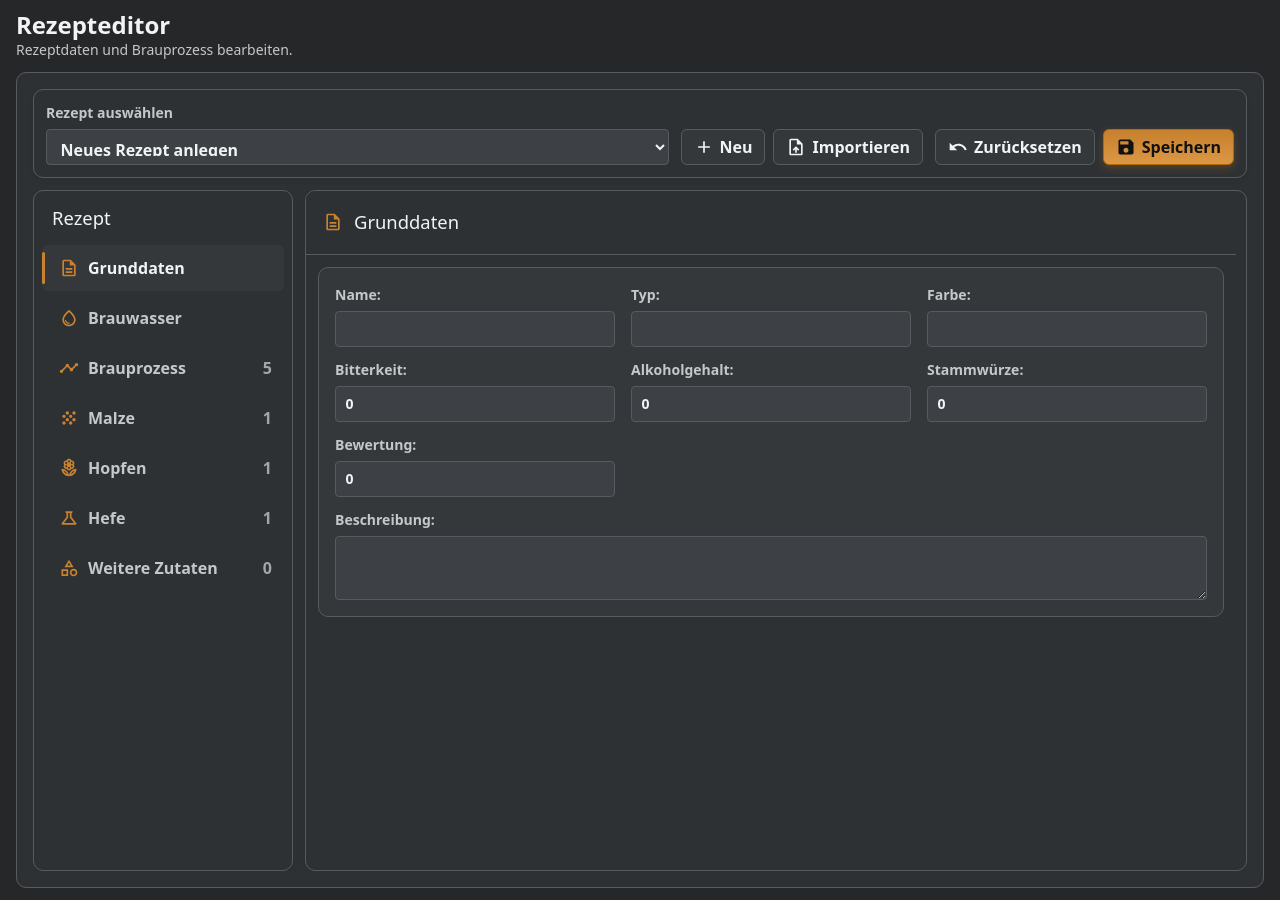
Test: BeerForm section navigation › shows and clears the decoction assignment error immediately after procedure type changes
The image size is (1280, 900).
Click the button "Brauprozess 5".
click(163, 368)  # box [42, 345, 284, 391]
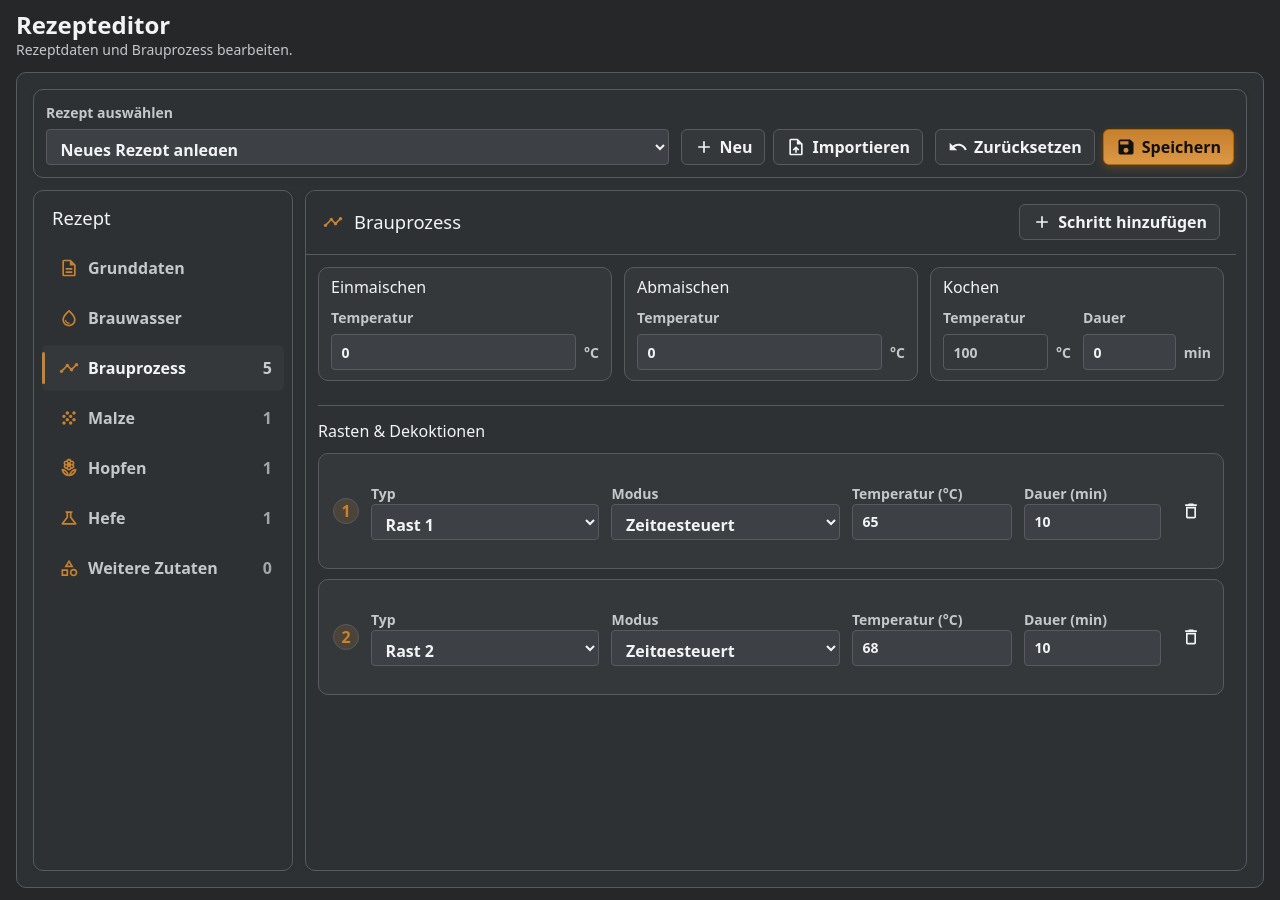
Select "Dekoktion" in the dropdown named "Typ 2" at (485, 522), box [371, 504, 600, 540]
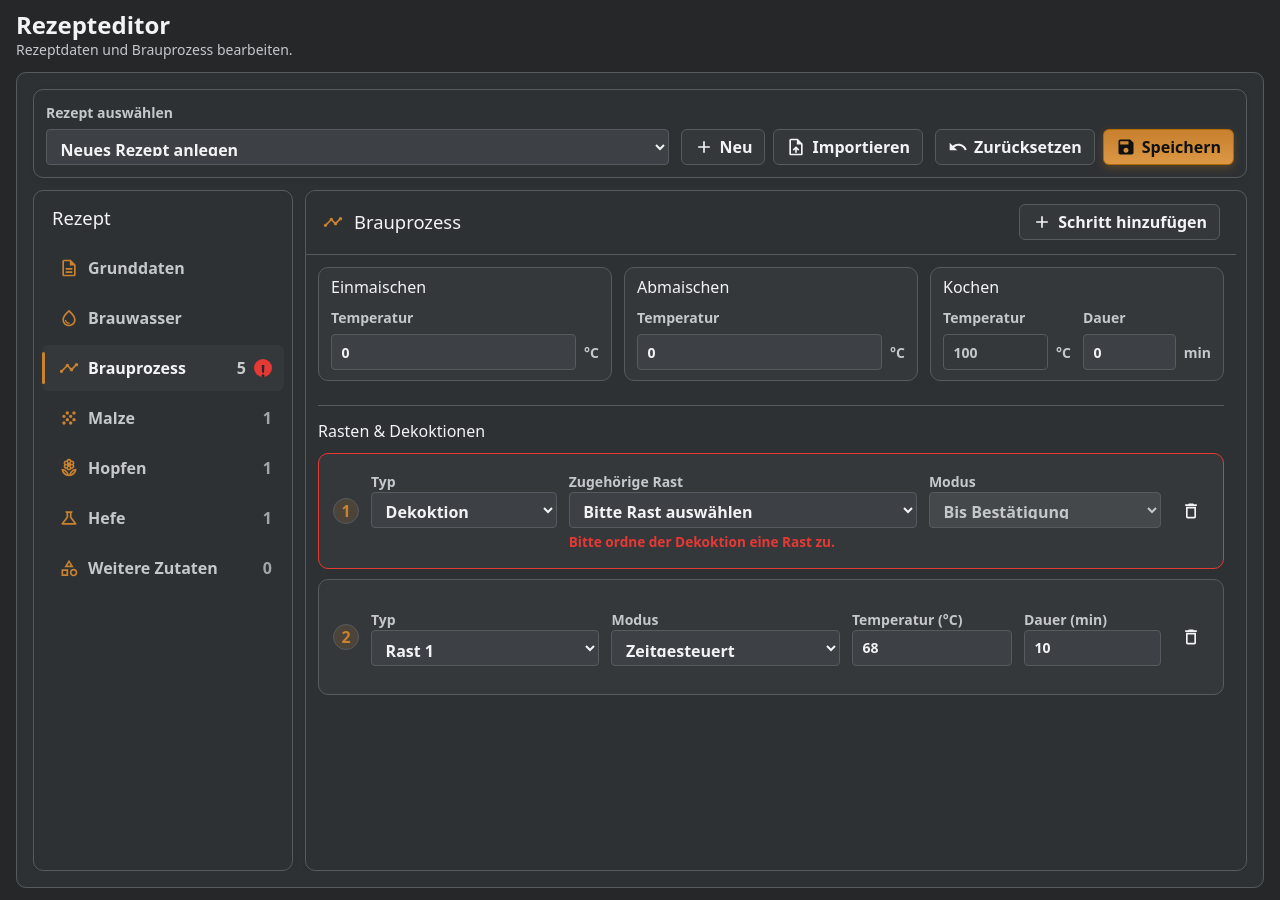
Check: the text "Bitte ordne der Dekoktion eine Rast zu." is shown, box [569, 532, 835, 551]
Select "Dekoktion" in the dropdown named "Typ 2" at (464, 510), box [371, 492, 557, 528]
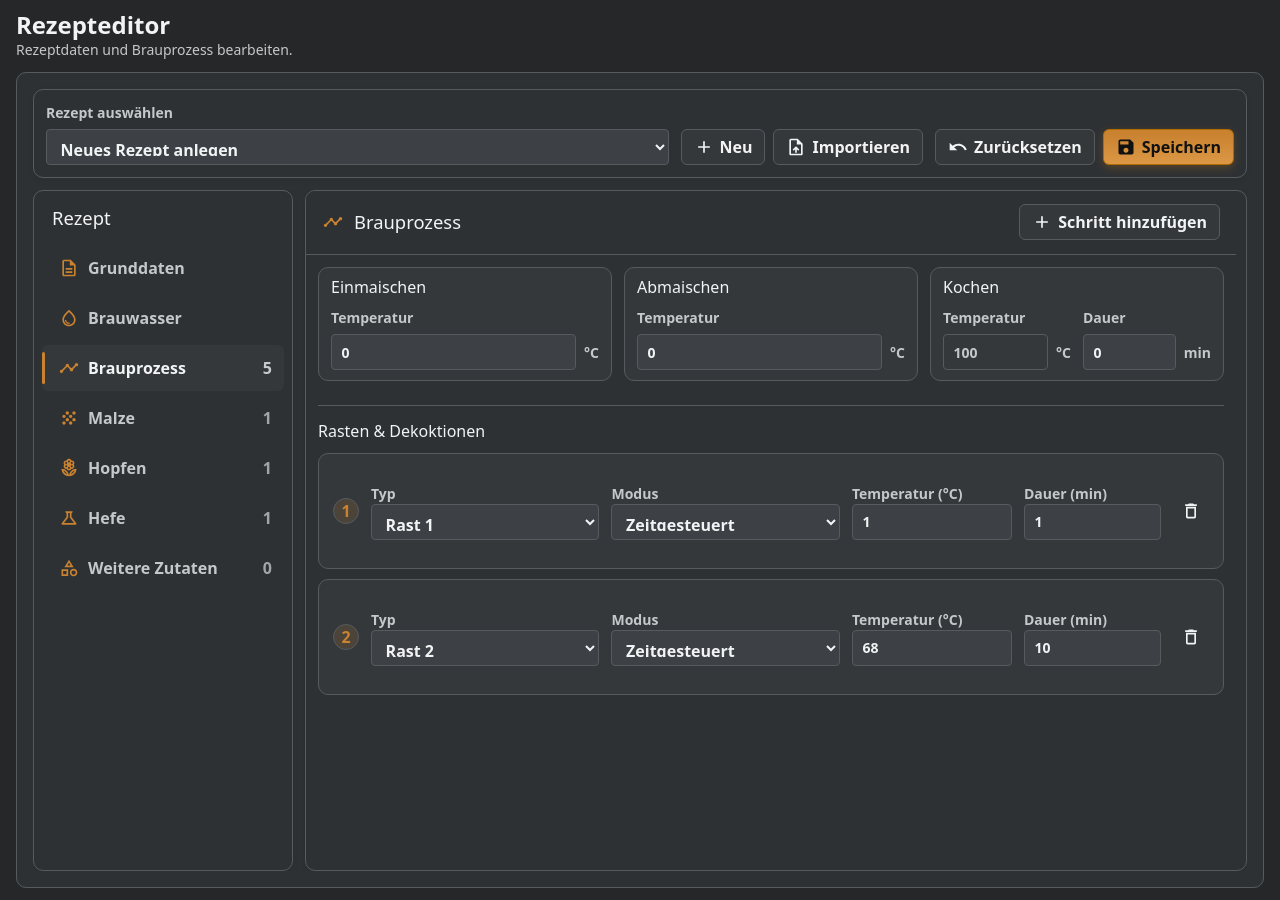
Check: the text "Bitte ordne der Dekoktion eine Rast zu." is gone
